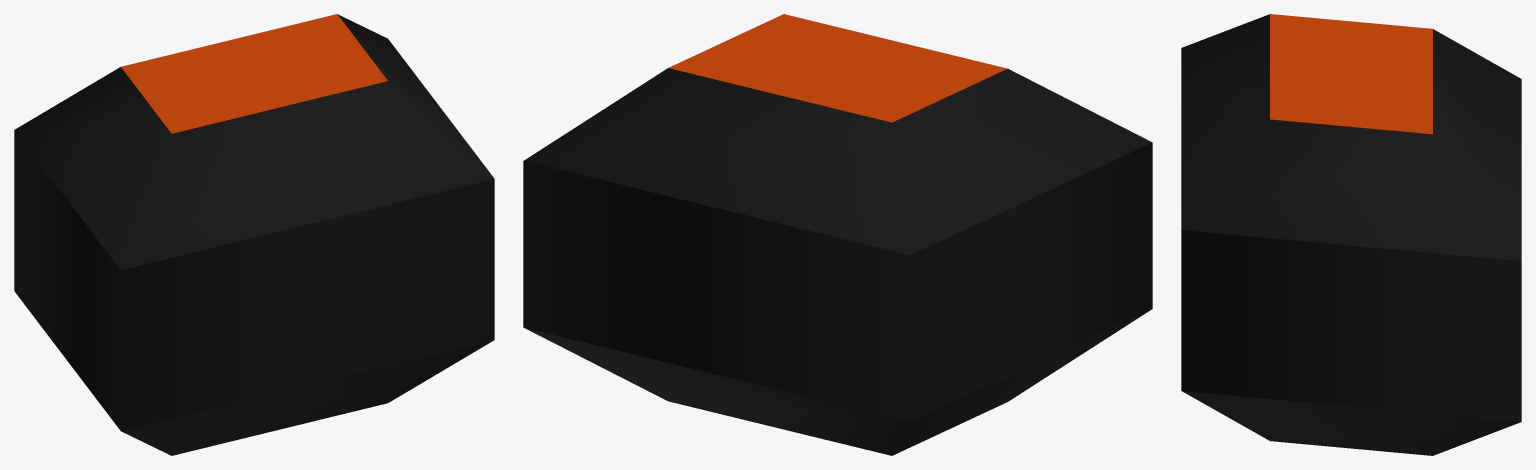
File: Point.fbx
3 views of the same model, side by side, from view 1: azimuth 30°, elevation 25°; view 2: azimuth 150°, elevation 25°; view 3: azimuth 270°, elevation 25° (orthographic). The views are drawn at different scales.
Parts seen in each view (by area): view 1: Text; view 2: Text; view 3: Text.
Boxes of the visible parts, box(x1,y1,x2,y2) form: Text: box(14, 14, 494, 455); Text: box(523, 14, 1152, 455); Text: box(1181, 14, 1521, 455).
Size of the model in its own units: 0.2274 by 0.16 by 0.1533.
